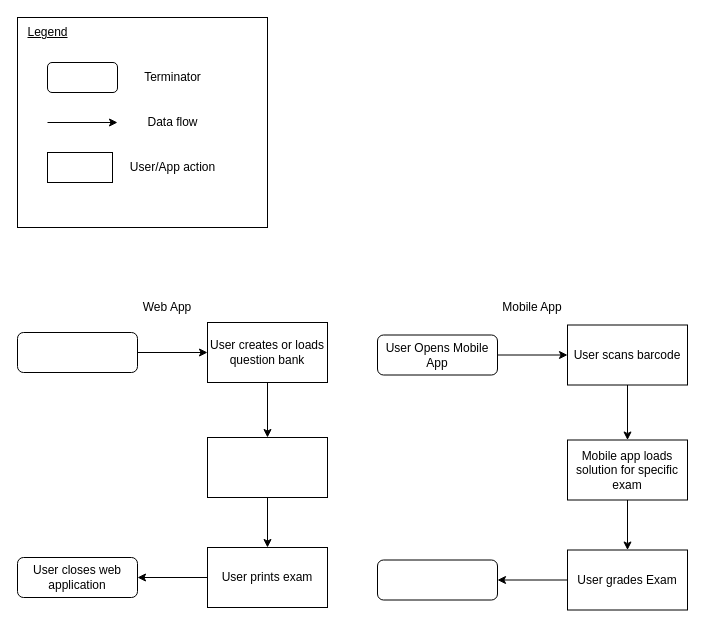
The diagram is 705 pixels wide and 628 high, and some of its shapes have lost their labels. Here are the shapes that lost their labels. From the top down, the box of each, then its label:
(16, 332, 138, 372): User opens web application
(206, 436, 328, 498): Application creates a exam from question banks
(376, 559, 498, 600): User closes Mobile application
